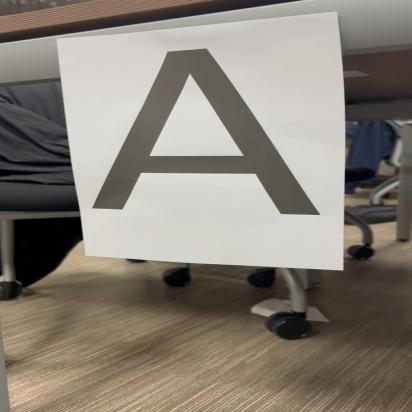seat: (79, 43, 335, 224)
